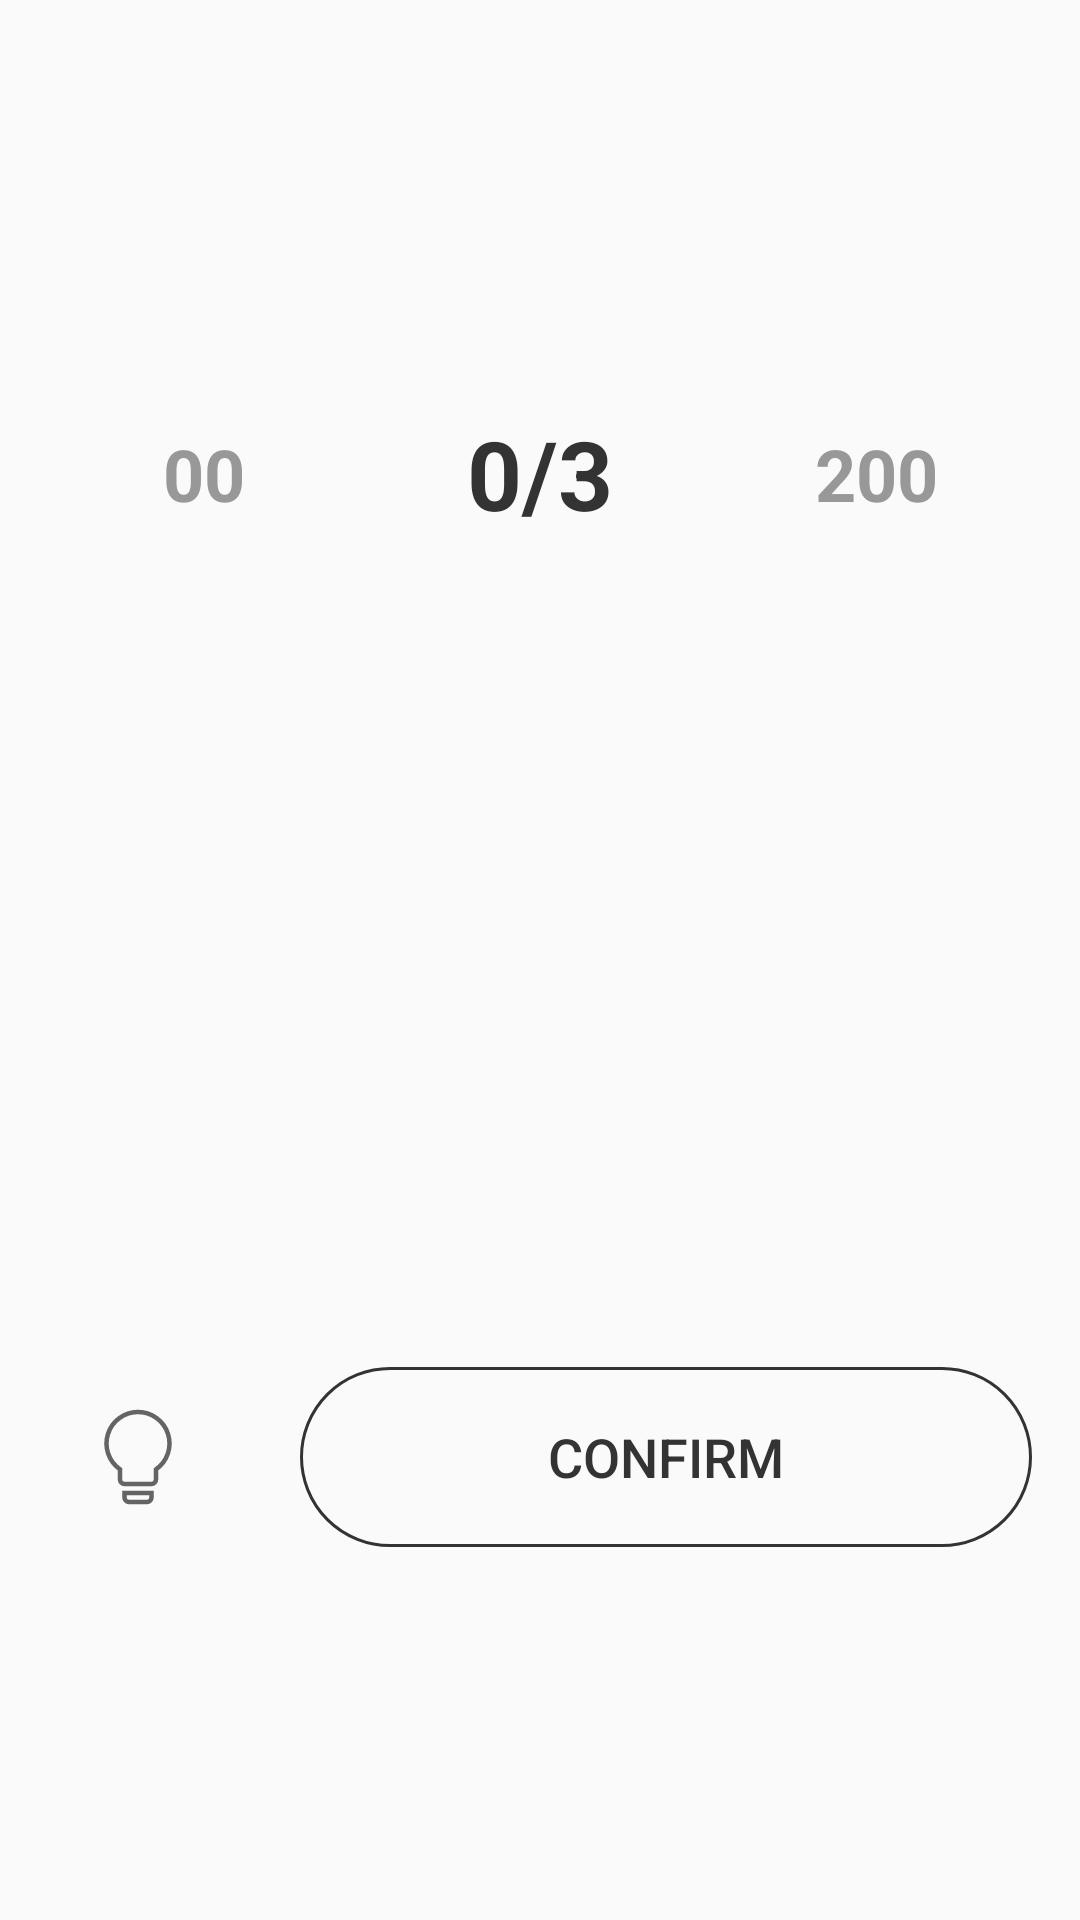

Icon bounding boxes for this 1080×1920 phone screenshot, format [x1=x1, y1=y1, x2=x2, y2=y2]:
hint: [x1=104, y1=1409, x2=172, y2=1505]
